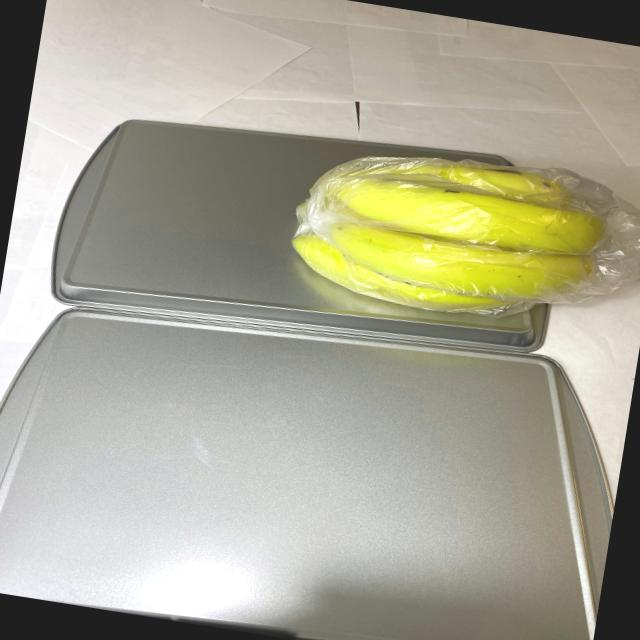banana: (276, 138, 621, 346)
